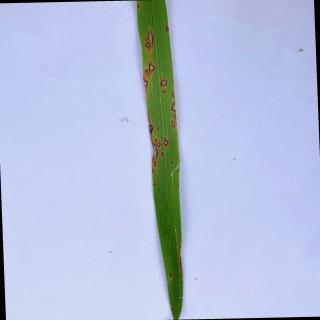Blast: (144, 29, 154, 52), (152, 141, 158, 161), (160, 76, 168, 88), (170, 102, 176, 113), (149, 121, 154, 134), (163, 138, 169, 148), (144, 79, 150, 88), (149, 63, 154, 73), (144, 69, 151, 75), (171, 120, 176, 128), (165, 24, 169, 33), (156, 141, 162, 147), (171, 91, 175, 98), (136, 3, 140, 8), (168, 273, 172, 278), (174, 114, 176, 119), (154, 163, 157, 166)
